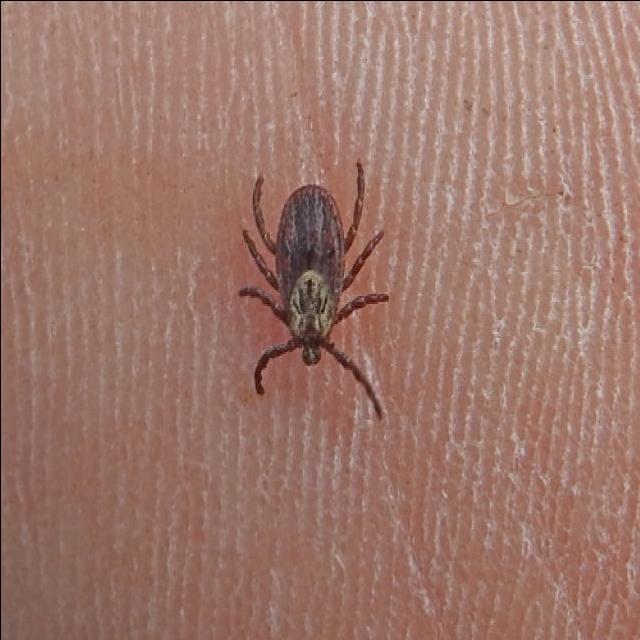Dermacentor Reticulatus-F: (237, 160, 388, 421)
